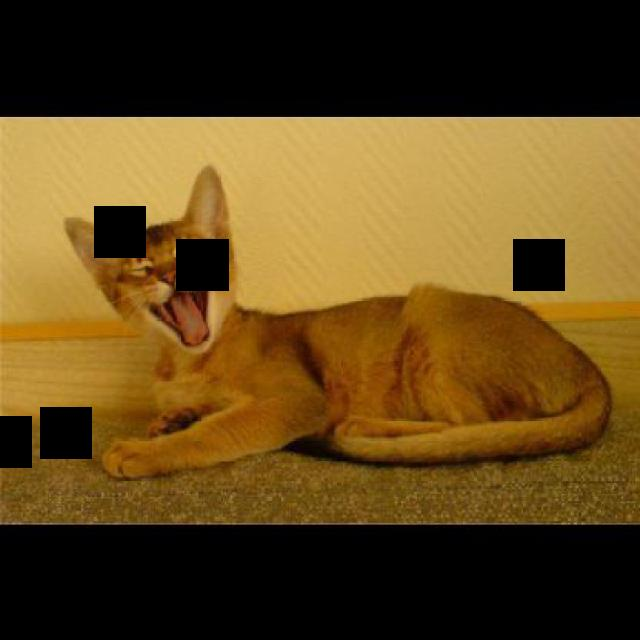unauthorized: (62, 163, 612, 480)
